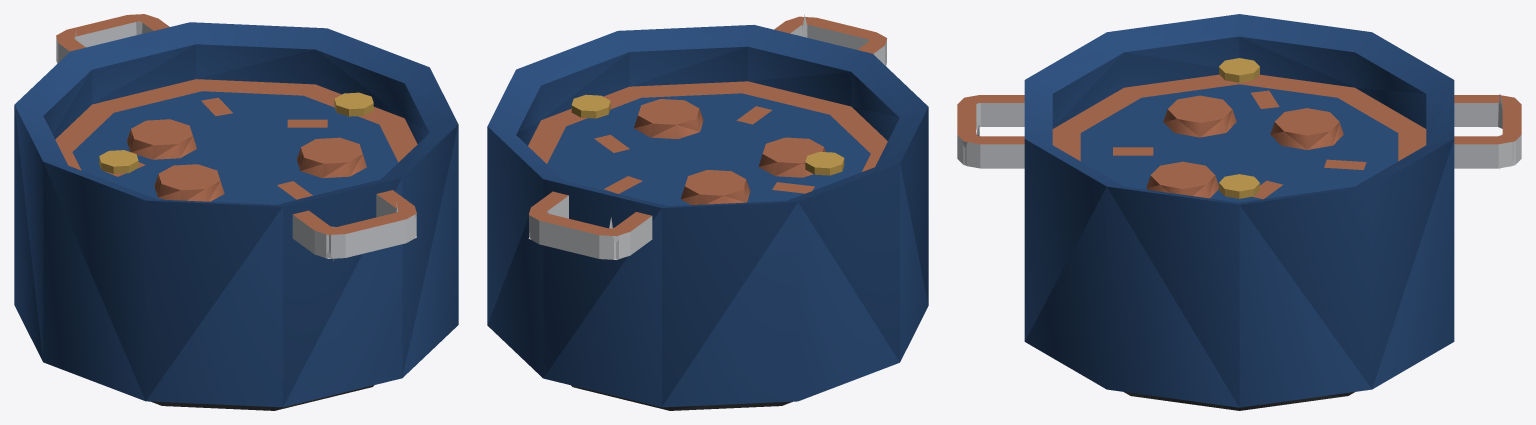
Rendered from pot-stew.glb.
The picture shows the model from 3 angles, left to right: view 1: azimuth 30°, elevation 25°; view 2: azimuth 150°, elevation 25°; view 3: azimuth 270°, elevation 25°; orthographic projection.
Parts seen in each view (by area): view 1: pot-stew; view 2: pot-stew; view 3: pot-stew.
Part boxes in pixels (x1,y1,x2,y2): pot-stew: [14, 14, 458, 410]; pot-stew: [487, 14, 928, 410]; pot-stew: [957, 14, 1521, 410].
Bounding box in the file's own units: 0.6574 × 0.3608 × 0.8221.
